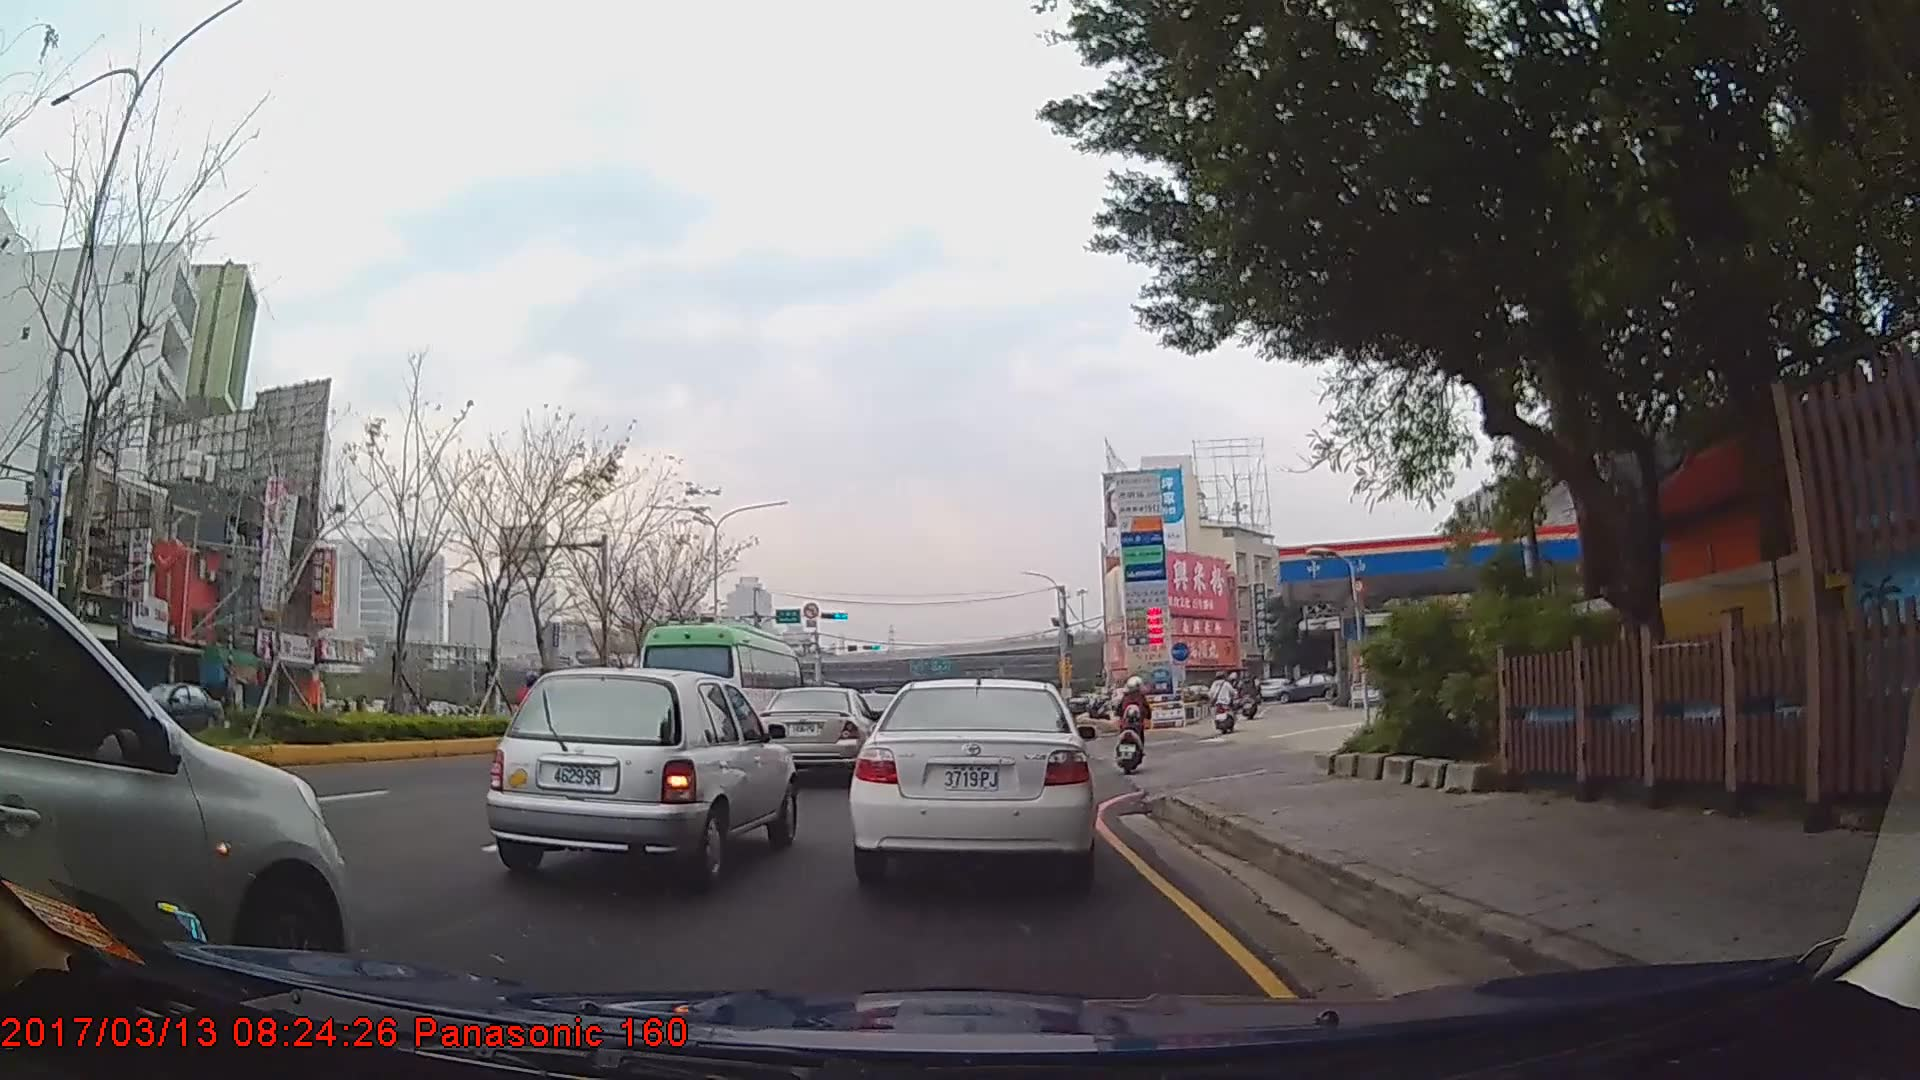rider: (1117, 675, 1151, 768), (1209, 667, 1238, 732)
vehicle: (0, 560, 347, 995), (488, 663, 800, 885), (849, 673, 1097, 888), (633, 620, 803, 760), (753, 686, 881, 780), (123, 677, 223, 732), (1273, 672, 1343, 702)
